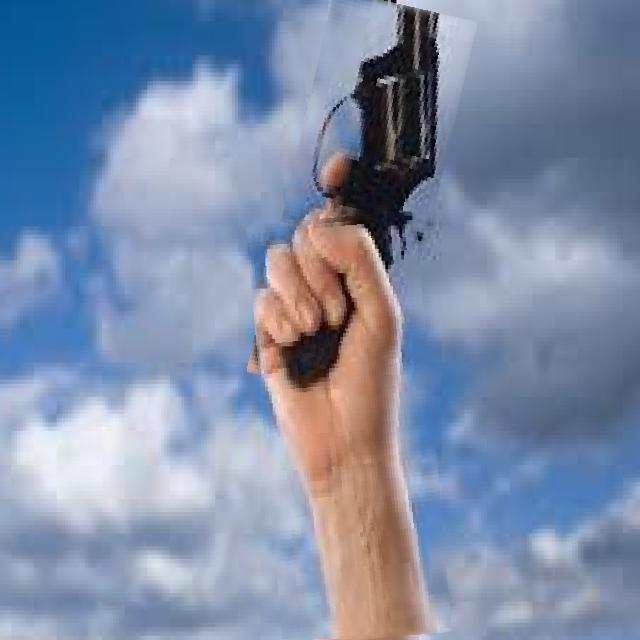Gun_Holder: (233, 0, 467, 434)
